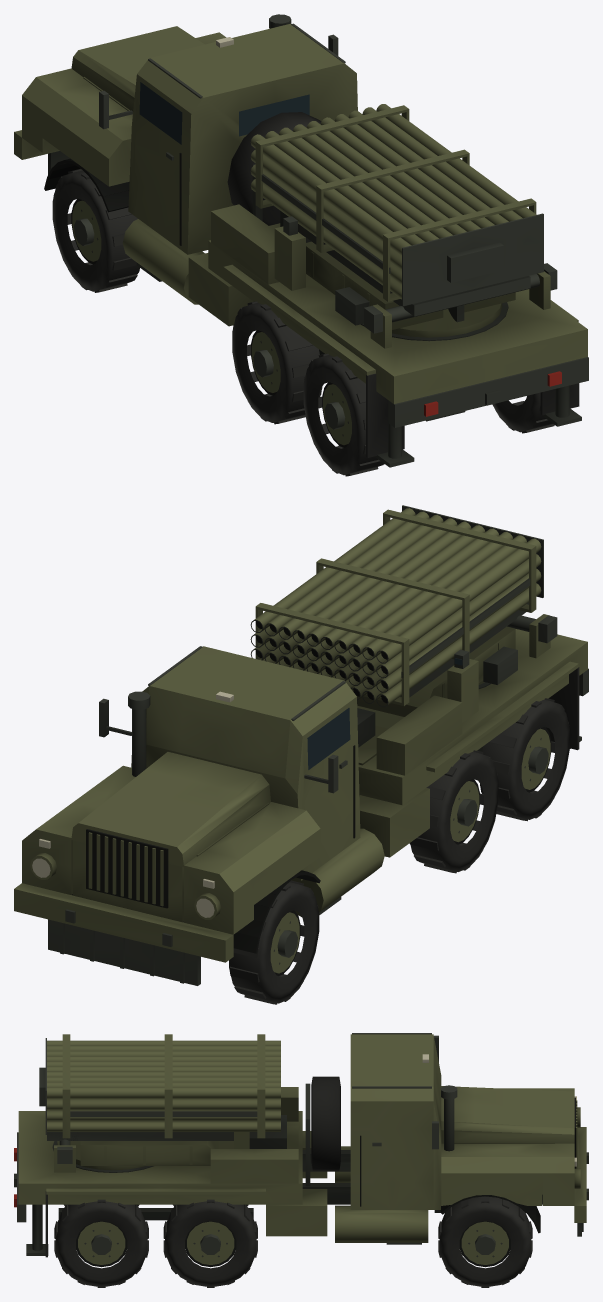
The picture shows the model from 3 angles, top to bottom: view 1: azimuth 30°, elevation 25°; view 2: azimuth 150°, elevation 25°; view 3: azimuth 270°, elevation 25°; orthographic projection. The views are drawn at different scales.
Visible parts, largest first — view 1: Hull_BM21_Paint, GunPitch_BM21_Paint, LeftTrack_Motion_BM21_Rubber, GunPitch_BM21_DarkSteel, Hull_BM21_DarkSteel, TurretYaw_BM21_Paint, Hull_BM21_Rubber, Hull_BM21_Optics, LeftTrack_Motion_BM21_Paint, TurretYaw_BM21_DarkSteel, Hull_BM21_Cavity, RightTrack_Motion_BM21_Rubber (+1 smaller); view 2: Hull_BM21_Paint, GunPitch_BM21_Paint, LeftTrack_Motion_BM21_Rubber, Hull_BM21_DarkSteel, Hull_BM21_Cavity, GunPitch_BM21_DarkSteel, TurretYaw_BM21_Paint, LeftTrack_Motion_BM21_Paint, TurretYaw_BM21_DarkSteel, LeftTrack_Motion_BM21_DarkSteel, Hull_BM21_Optics, GunPitch_BM21_Cavity (+2 smaller); view 3: Hull_BM21_Paint, GunPitch_BM21_Paint, RightTrack_Motion_BM21_Rubber, Hull_BM21_DarkSteel, TurretYaw_BM21_Paint, RightTrack_Motion_BM21_Paint, GunPitch_BM21_DarkSteel, Hull_BM21_Rubber, RightTrack_Motion_BM21_DarkSteel, RightTrack_Motion_BM21_Cavity, Hull_BM21_Cavity.
Part boxes in pixels (left/top/right/bottom): Hull_BM21_Paint: left=14, top=23, right=587, bottom=403; GunPitch_BM21_Paint: left=250, top=104, right=536, bottom=301; LeftTrack_Motion_BM21_Rubber: left=52, top=168, right=384, bottom=476; GunPitch_BM21_DarkSteel: left=261, top=174, right=543, bottom=322; Hull_BM21_DarkSteel: left=48, top=14, right=588, bottom=467; TurretYaw_BM21_Paint: left=274, top=226, right=550, bottom=348; Hull_BM21_Rubber: left=227, top=112, right=579, bottom=457; Hull_BM21_Optics: left=139, top=82, right=309, bottom=144; LeftTrack_Motion_BM21_Paint: left=72, top=200, right=351, bottom=445; TurretYaw_BM21_DarkSteel: left=283, top=216, right=557, bottom=333; Hull_BM21_Cavity: left=44, top=153, right=181, bottom=245; RightTrack_Motion_BM21_Rubber: left=492, top=392, right=554, bottom=433; Hull_BM21_Paint: left=14, top=629, right=587, bottom=962; GunPitch_BM21_Paint: left=254, top=508, right=541, bottom=705; LeftTrack_Motion_BM21_Rubber: left=229, top=698, right=569, bottom=1004; Hull_BM21_DarkSteel: left=48, top=646, right=588, bottom=985; Hull_BM21_Cavity: left=72, top=745, right=355, bottom=953; GunPitch_BM21_DarkSteel: left=250, top=505, right=543, bottom=707; TurretYaw_BM21_Paint: left=356, top=614, right=550, bottom=722; LeftTrack_Motion_BM21_Paint: left=270, top=728, right=550, bottom=973; TurretYaw_BM21_DarkSteel: left=454, top=615, right=557, bottom=684; LeftTrack_Motion_BM21_DarkSteel: left=273, top=738, right=548, bottom=964; Hull_BM21_Optics: left=307, top=708, right=350, bottom=769; GunPitch_BM21_Cavity: left=255, top=621, right=387, bottom=703; Hull_BM21_Paint: left=18, top=1034, right=586, bottom=1242; GunPitch_BM21_Paint: left=47, top=1034, right=280, bottom=1138; RightTrack_Motion_BM21_Rubber: left=54, top=1196, right=532, bottom=1287; Hull_BM21_DarkSteel: left=14, top=1033, right=588, bottom=1255; TurretYaw_BM21_Paint: left=54, top=1141, right=218, bottom=1172; RightTrack_Motion_BM21_Paint: left=78, top=1221, right=508, bottom=1264; GunPitch_BM21_DarkSteel: left=39, top=1038, right=257, bottom=1145; Hull_BM21_Rubber: left=45, top=1076, right=340, bottom=1257; RightTrack_Motion_BM21_DarkSteel: left=84, top=1230, right=502, bottom=1257; RightTrack_Motion_BM21_Cavity: left=76, top=1221, right=510, bottom=1267; Hull_BM21_Cavity: left=360, top=1097, right=575, bottom=1233.
Size of the model in its own units: 2.66 by 2.73 by 7.38.
